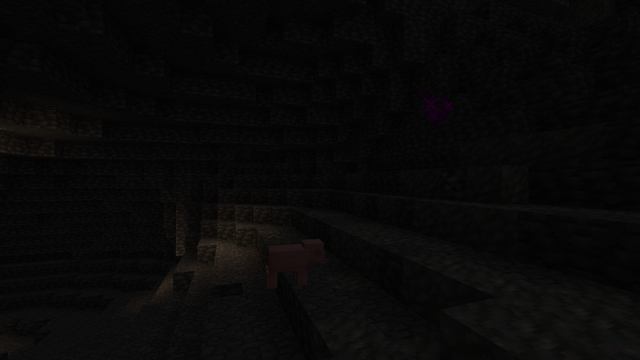cochons: (268, 241, 310, 291)
